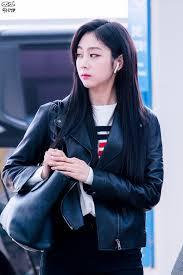earphone: (111, 62, 121, 73)
